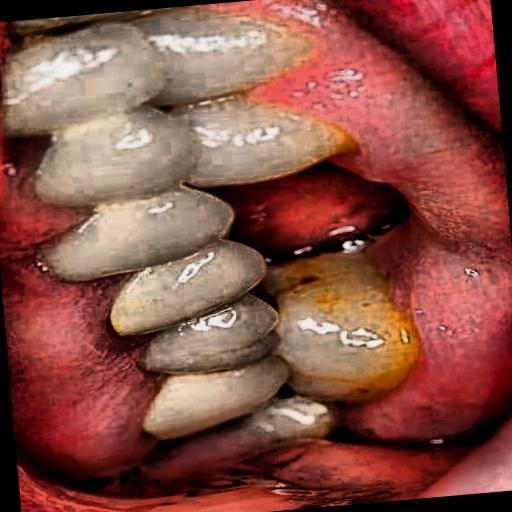Gingivitis: (214, 0, 476, 213), (0, 255, 176, 492), (365, 241, 512, 460)
